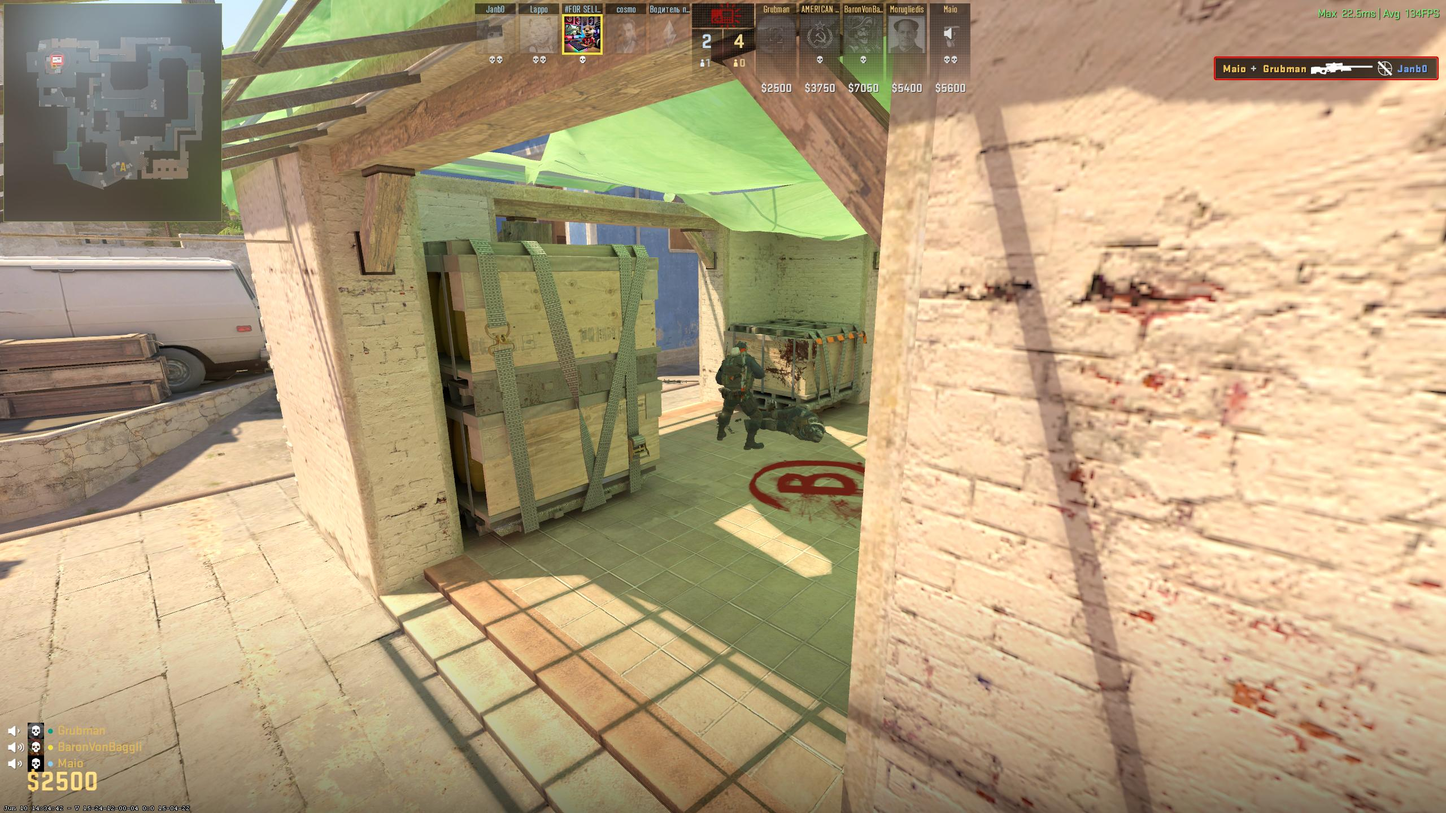CT: (709, 340, 758, 447)
